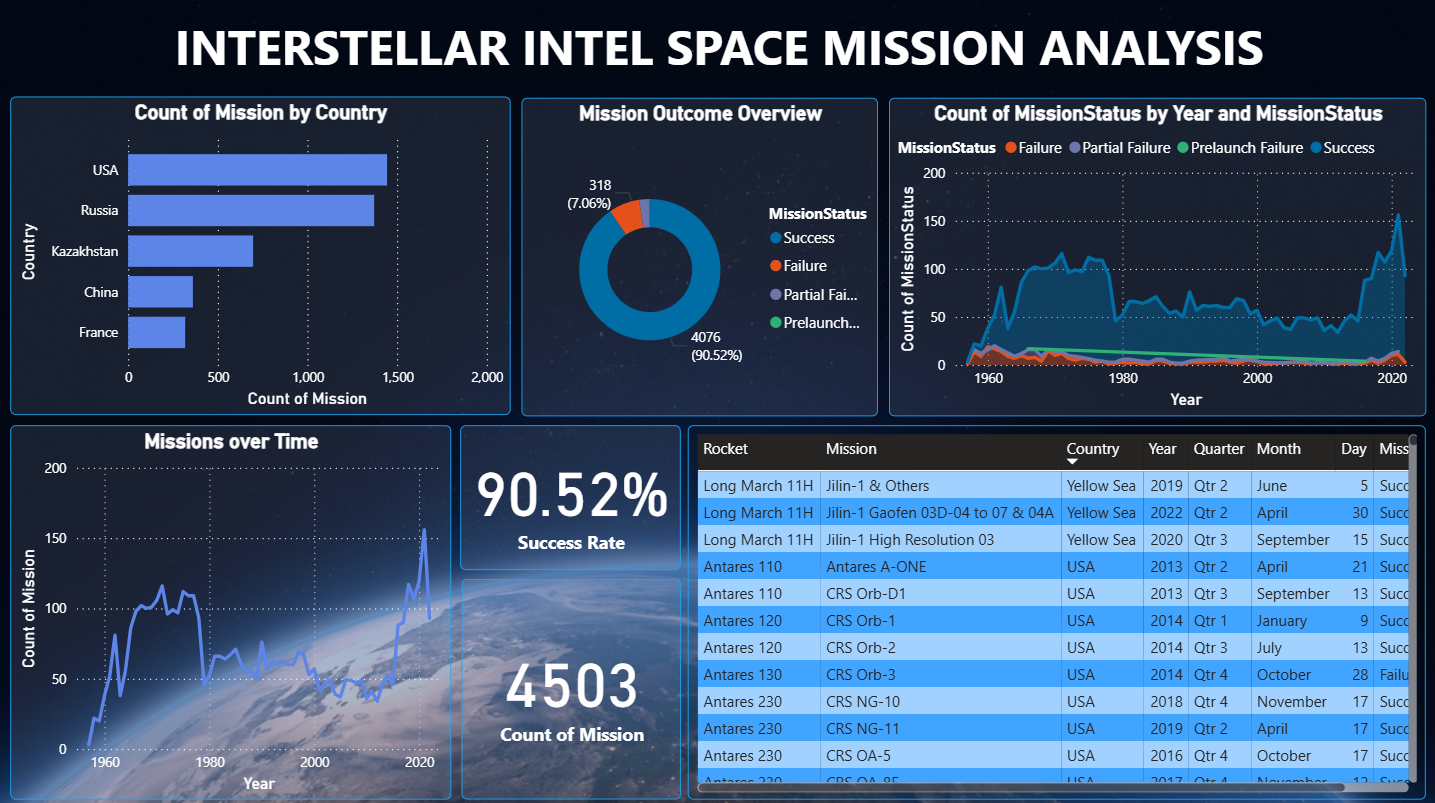

Layout of this report page (visuals, bound fields, positions):
{"tool":"powerbi","page":{"name":"Main Dashboard","canvas":[1280,720],"ordinal":0},"visuals":[{"type":"donutChart","title":"Mission Outcome Overview","fields":{"Y":["CountNonNull(cleaned_missions.MissionStatus)"],"Category":["cleaned_missions.MissionStatus"]},"box":[464.3,88.1,317.1,282.9],"z":0},{"type":"stackedAreaChart","fields":{"Category":["cleaned_missions.Year"],"Y":["CountNonNull(cleaned_missions.MissionStatus)"],"Series":["cleaned_missions.MissionStatus"]},"box":[790.7,88.1,477.7,282.9],"z":1000},{"type":"lineChart","title":"Missions over Time","fields":{"Y":["CountNonNull(cleaned_missions.Mission)"],"Category":["cleaned_missions.Year"]},"box":[10.4,379.3,391.7,332.6],"z":2000},{"type":"barChart","fields":{"Category":["cleaned_missions.Country"],"Y":["CountNonNull(cleaned_missions.Mission)"]},"box":[10.4,87,444.6,282.9],"z":3000},{"type":"card","fields":{"Values":["cleaned_missions.Success Rate"]},"box":[410.4,379.3,195.9,128.5],"z":4000},{"type":"textbox","box":[143,8.3,993.8,78.8],"z":5000},{"type":"tableEx","fields":{"Values":["cleaned_missions.Rocket","cleaned_missions.Mission","cleaned_missions.Country","cleaned_missions.LaunchDateTime.Variation.Date Hierarchy.Year","cleaned_missions.LaunchDateTime.Variation.Date Hierarchy.Quarter","cleaned_missions.LaunchDateTime.Variation.Date Hierarchy.Month","cleaned_missions.LaunchDateTime.Variation.Date Hierarchy.Day","cleaned_missions.MissionStatus"]},"box":[612.4,379.3,656,332.6],"z":6000},{"type":"card","fields":{"Values":["CountNonNull(cleaned_missions.Mission)"]},"box":[411.4,516.1,194.8,195.9],"z":7000}]}

Visuals, with their boxes in screenshot pixels (x1, y1, x2, y2), scaled from the page's 1280x720 canvas onto the 1435x803 screenshot:
"Mission Outcome Overview" donutChart: box=[521, 98, 876, 414]
stackedAreaChart - cleaned_missions.Year x CountNonNull(cleaned_missions.MissionStatus): box=[886, 98, 1422, 414]
"Missions over Time" lineChart: box=[12, 423, 451, 794]
barChart - cleaned_missions.Country x CountNonNull(cleaned_missions.Mission): box=[12, 97, 510, 413]
card - cleaned_missions.Success Rate: box=[460, 423, 680, 566]
textbox: box=[160, 9, 1274, 97]
tableEx - cleaned_missions.Rocket x cleaned_missions.Mission: box=[687, 423, 1422, 794]
card - CountNonNull(cleaned_missions.Mission): box=[461, 576, 680, 794]
